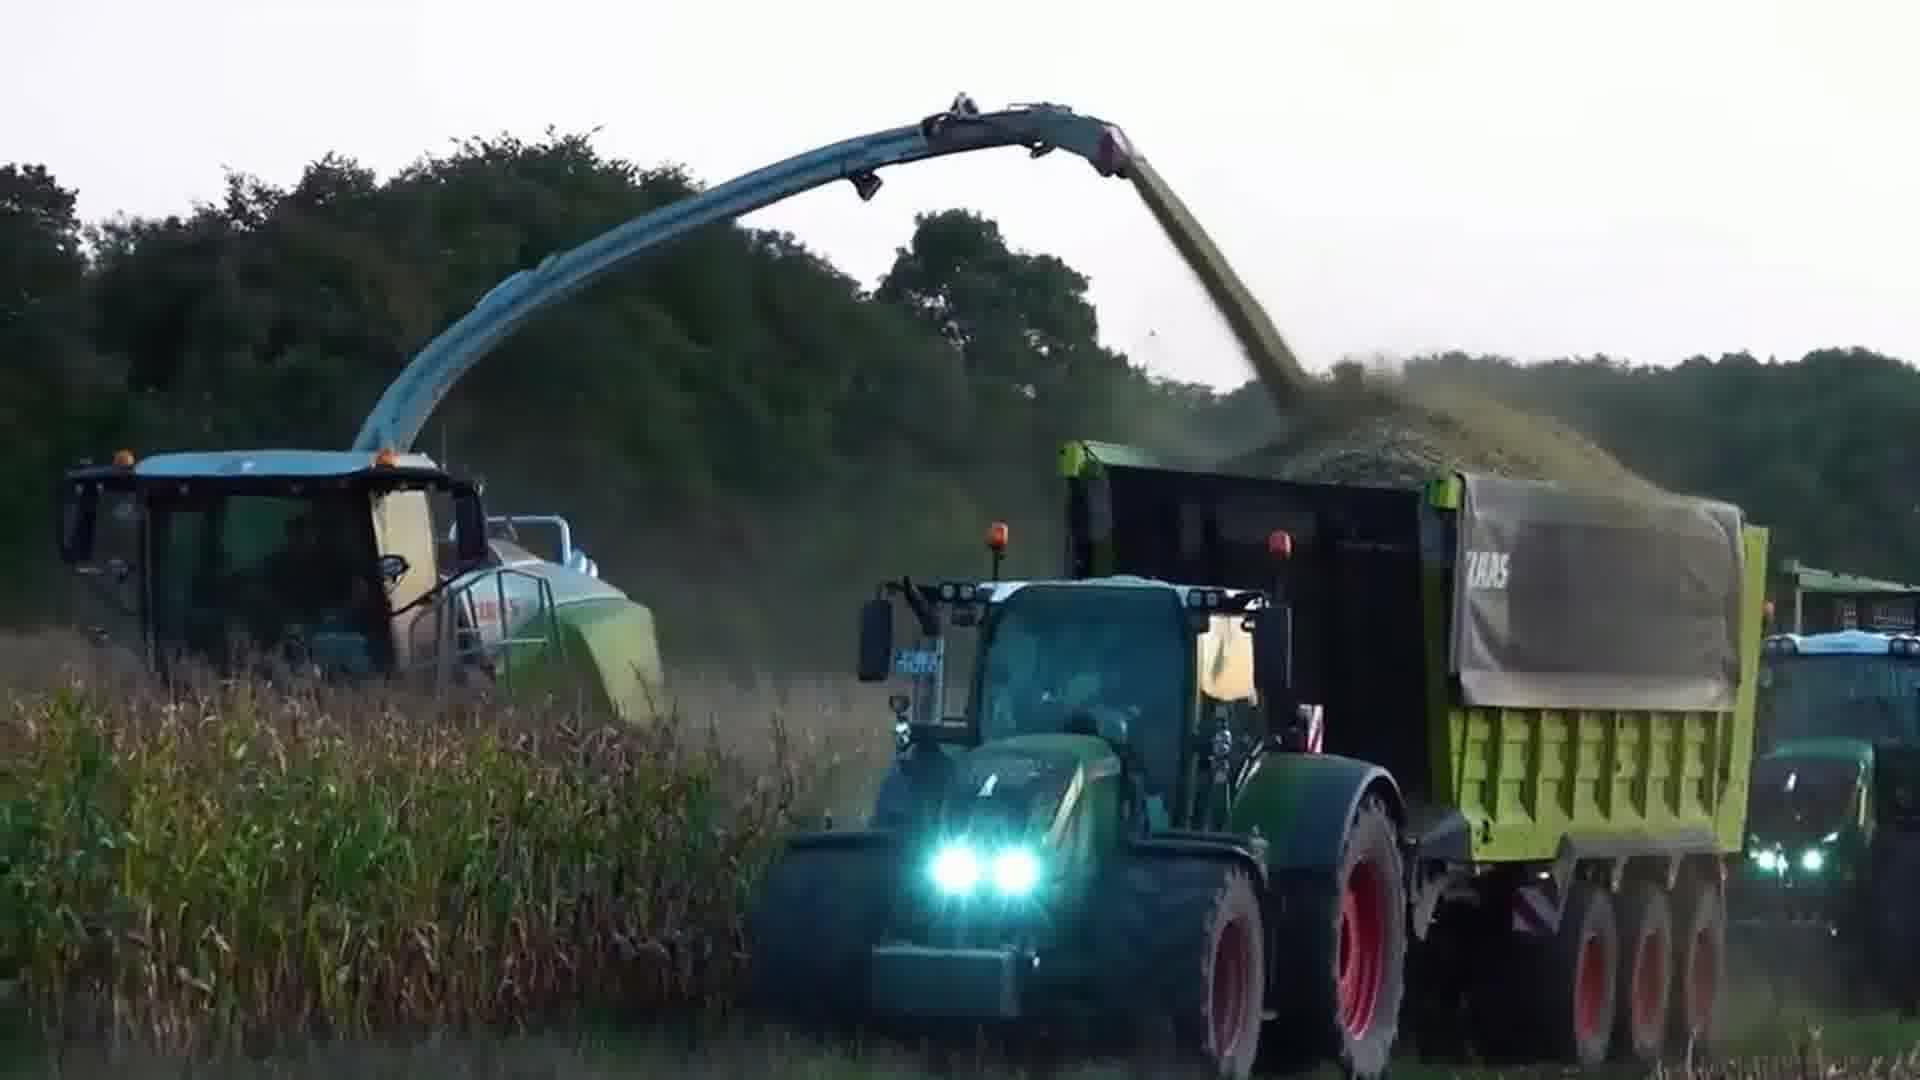combine harvester: (54, 88, 1153, 777)
tractor: (744, 513, 1415, 1080), (1737, 628, 1920, 1039)
trailer: (1047, 421, 1801, 1046)
